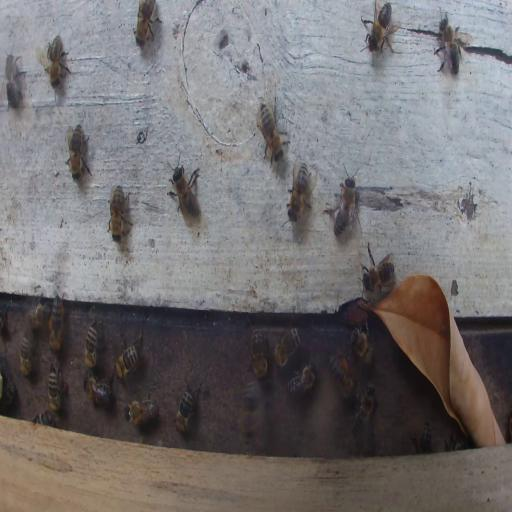bee: (167, 152, 201, 226), (432, 10, 470, 76), (359, 0, 396, 64), (38, 30, 72, 96), (332, 163, 360, 239), (286, 161, 315, 222), (258, 100, 284, 165), (361, 248, 395, 295), (174, 378, 203, 432), (106, 184, 132, 242), (350, 382, 376, 438), (66, 124, 91, 181), (47, 291, 68, 358), (133, 0, 160, 47), (4, 53, 25, 109), (328, 355, 354, 400), (273, 326, 302, 366), (348, 325, 374, 367), (286, 362, 317, 396), (125, 396, 158, 427), (250, 326, 268, 381), (113, 342, 139, 380), (83, 375, 112, 408), (47, 361, 64, 411), (410, 421, 435, 454), (26, 296, 49, 331), (84, 322, 99, 368), (20, 331, 32, 379), (1, 376, 16, 412), (34, 411, 58, 425)
